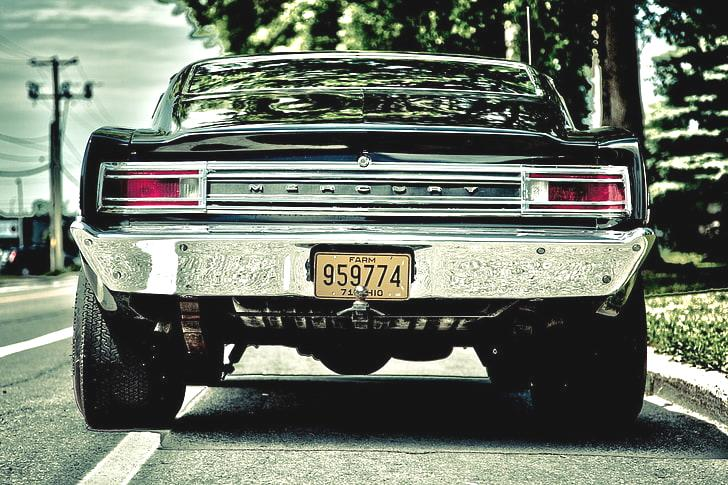Mercury: (226, 165, 505, 206)
